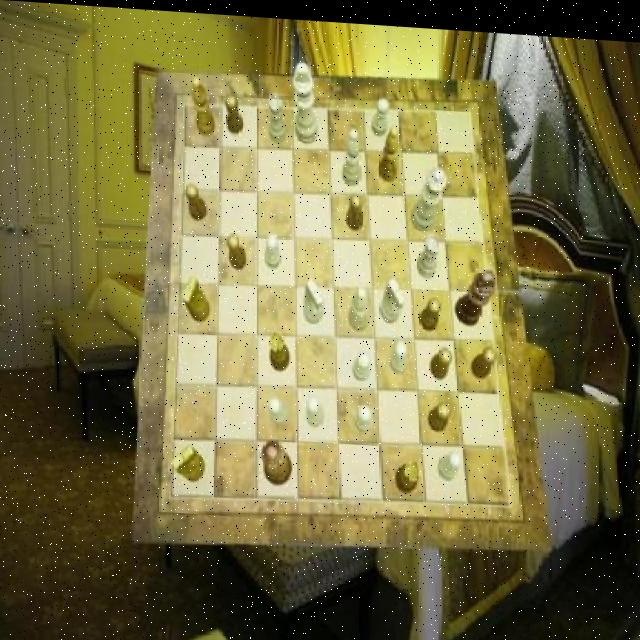bishop: (192, 73, 215, 133), (378, 119, 398, 177)
black-bishop: (454, 262, 496, 320)
black-king: (182, 274, 209, 321), (172, 441, 204, 480)
black-knight: (470, 340, 496, 374), (185, 182, 208, 219), (225, 92, 243, 133), (421, 291, 442, 326), (430, 341, 452, 374), (428, 396, 450, 428), (226, 231, 246, 266), (346, 187, 363, 226)
black-pawn: (260, 435, 291, 482)
black-queen: (395, 455, 420, 490), (269, 328, 289, 369)
black-rook: (342, 123, 362, 181), (348, 283, 368, 328)
white-bishop: (292, 60, 317, 141)
white-king: (380, 272, 405, 319), (304, 274, 324, 321)
white-knight: (437, 444, 461, 477), (372, 93, 389, 133), (307, 391, 325, 425), (389, 334, 406, 369), (263, 229, 280, 264), (354, 400, 374, 429), (268, 393, 288, 421), (352, 346, 369, 376)
white-pawn: (412, 159, 448, 226)
white-queen: (418, 227, 442, 273), (269, 90, 286, 140)
